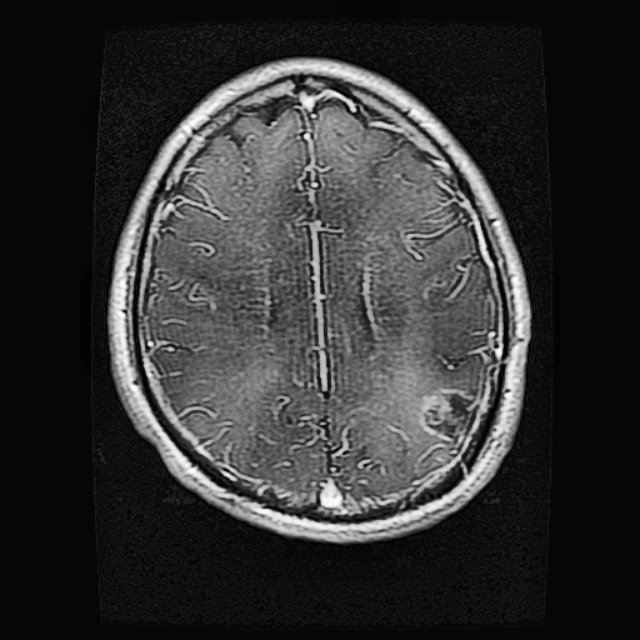Glioma: (419, 384, 480, 439)
